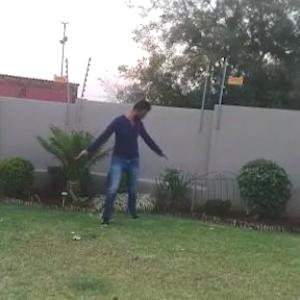land: (73, 96, 178, 233)
